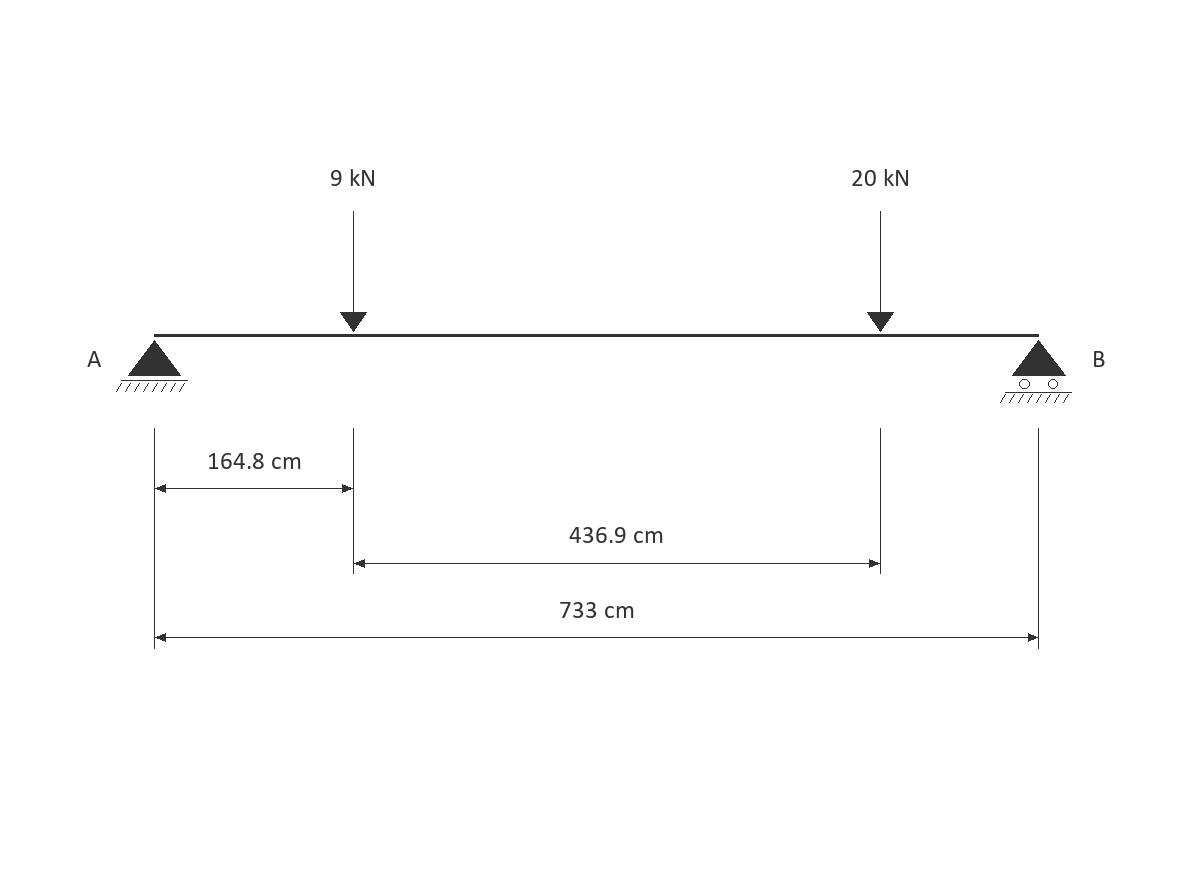pin_support: (116, 340, 188, 392)
point_load: (340, 211, 367, 332), (867, 211, 894, 332)
roller_support: (1000, 340, 1072, 403)
